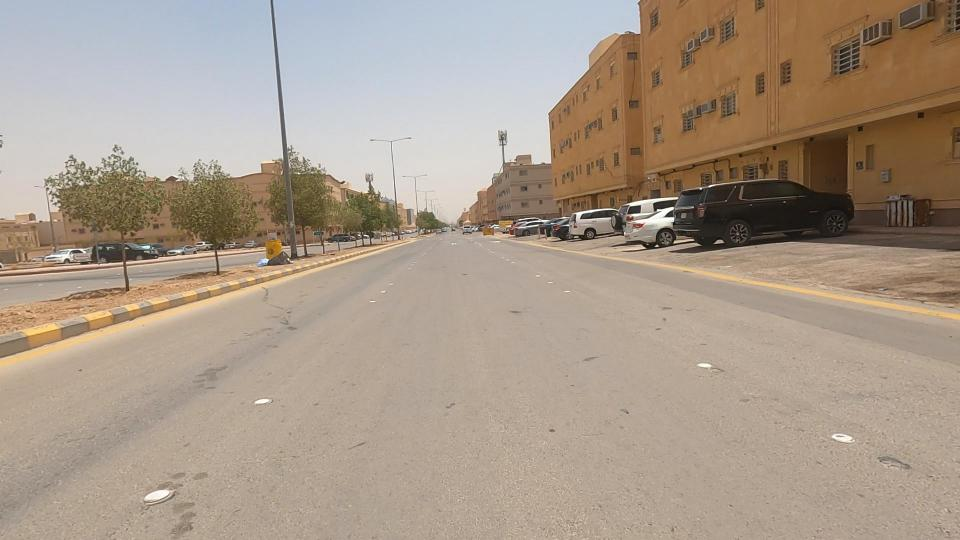GARBAGE: (229, 235, 319, 290)
